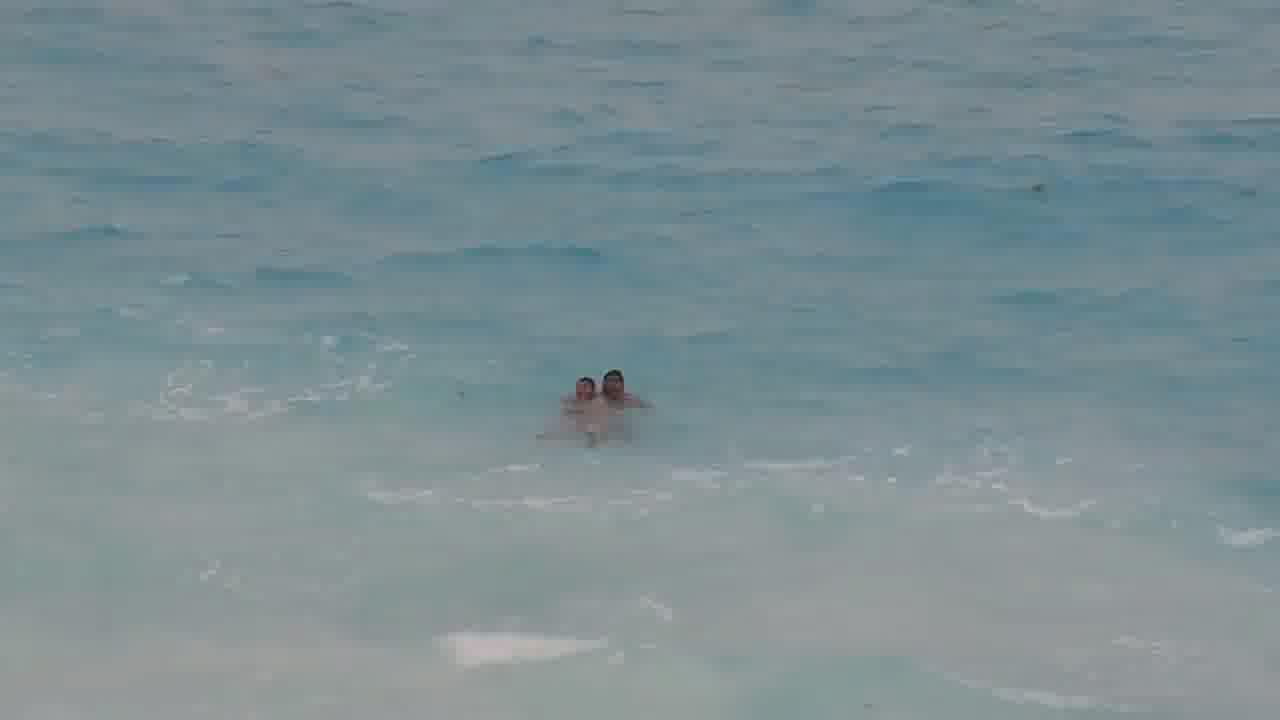human: (591, 354, 646, 411), (558, 370, 603, 411)
